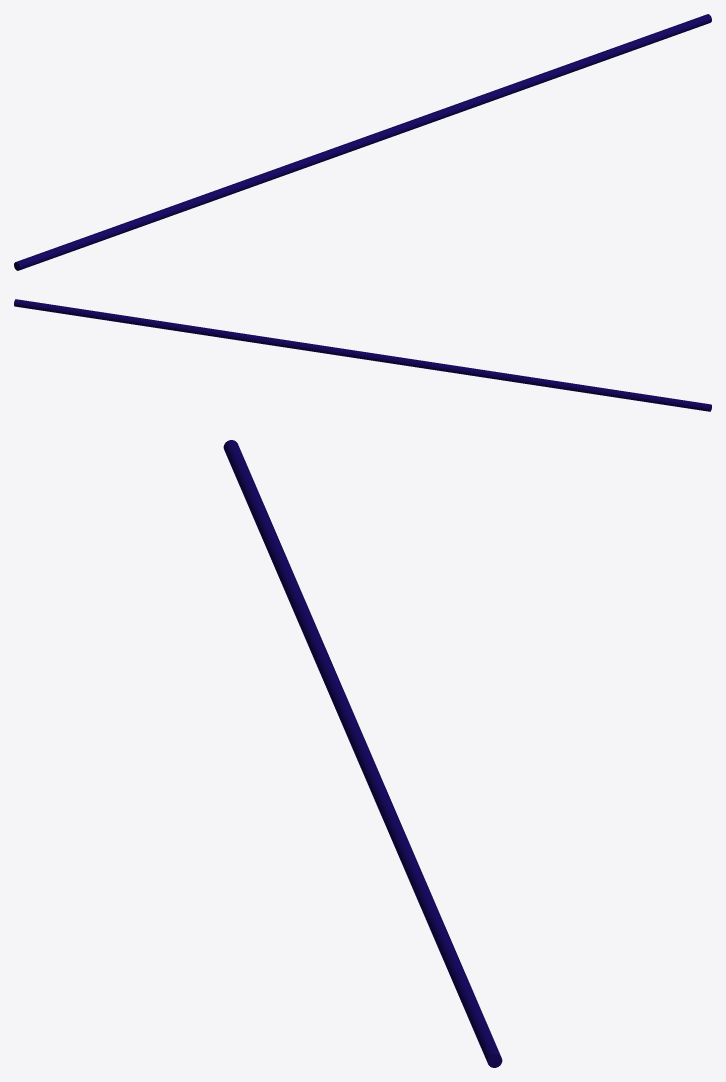
3 renders of one model, top to bottom at view 1: azimuth 30°, elevation 25°; view 2: azimuth 150°, elevation 25°; view 3: azimuth 270°, elevation 25°, orthographic. The views are drawn at different scales.
Visible parts, largest first — view 1: Cylinder; view 2: Cylinder; view 3: Cylinder.
Part boxes in pixels (x1,y1,x2,y2): Cylinder: [14, 14, 711, 270]; Cylinder: [14, 299, 711, 411]; Cylinder: [223, 440, 502, 1067].
Bounding box in the file's own units: 6.16 × 0.0634 × 1.18.
